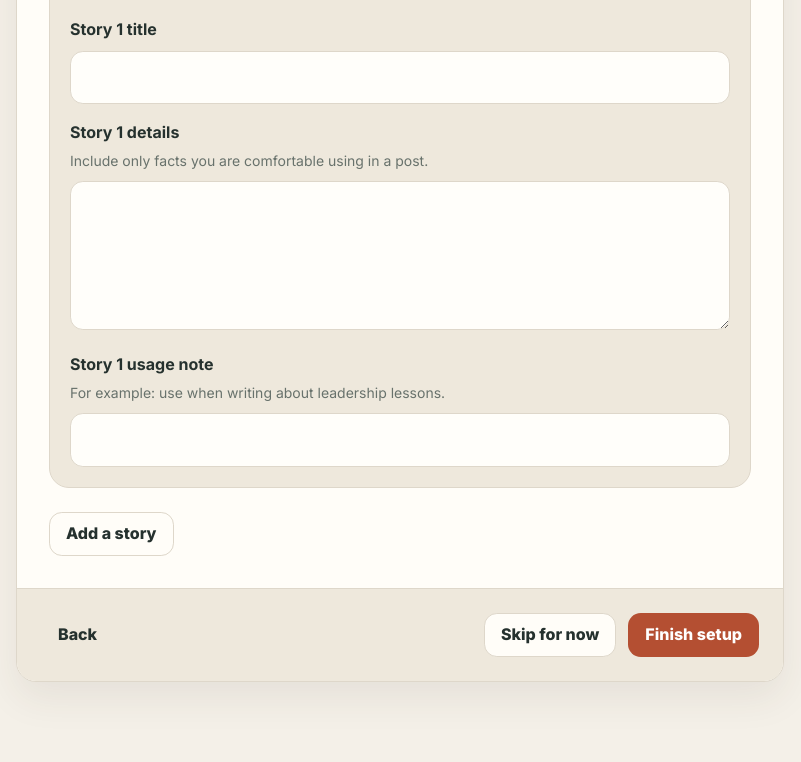
Test case: does not discard a partial story entered in Story 1 usage note
(page scrolled)
Type "Use for lessons" into the field labelled "Story 1 usage note" at point(400, 440), box [70,413,730,466]
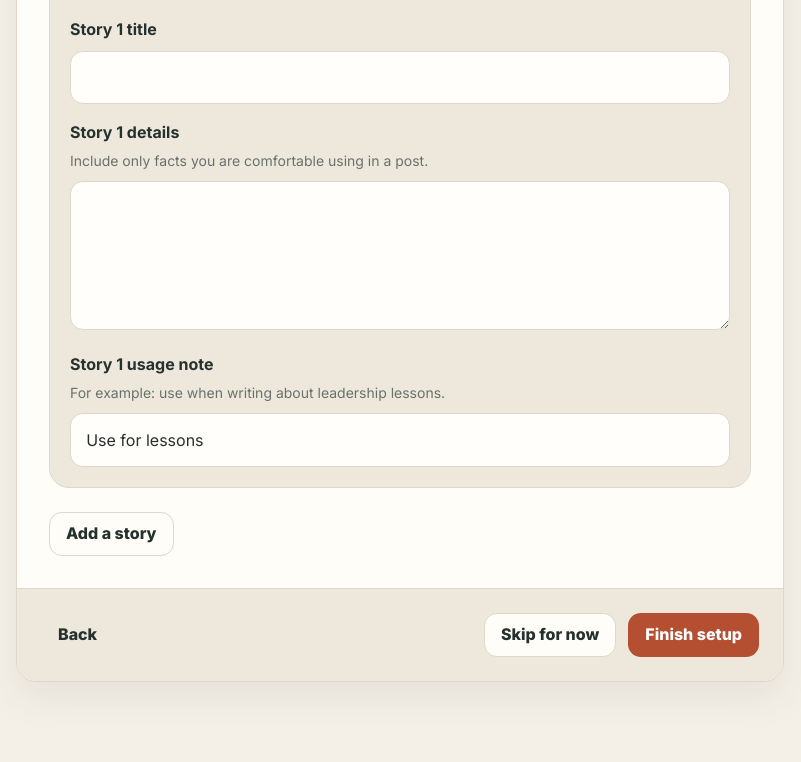
Click the button "Finish setup" at point(694, 634), box [628,612,759,656]
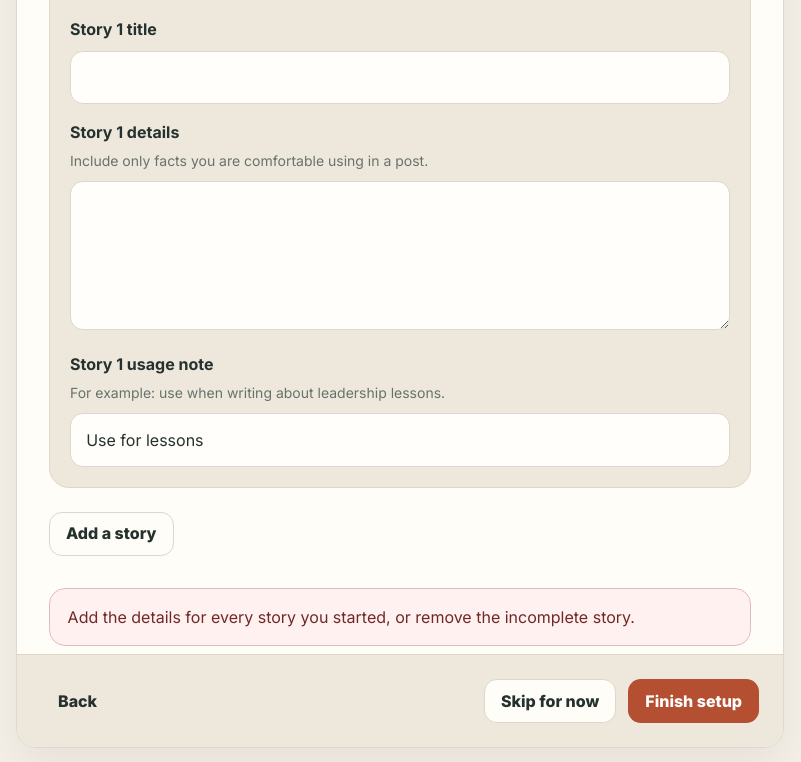
Expected: the message shows "Add the details for every story", [68,606,635,626]
